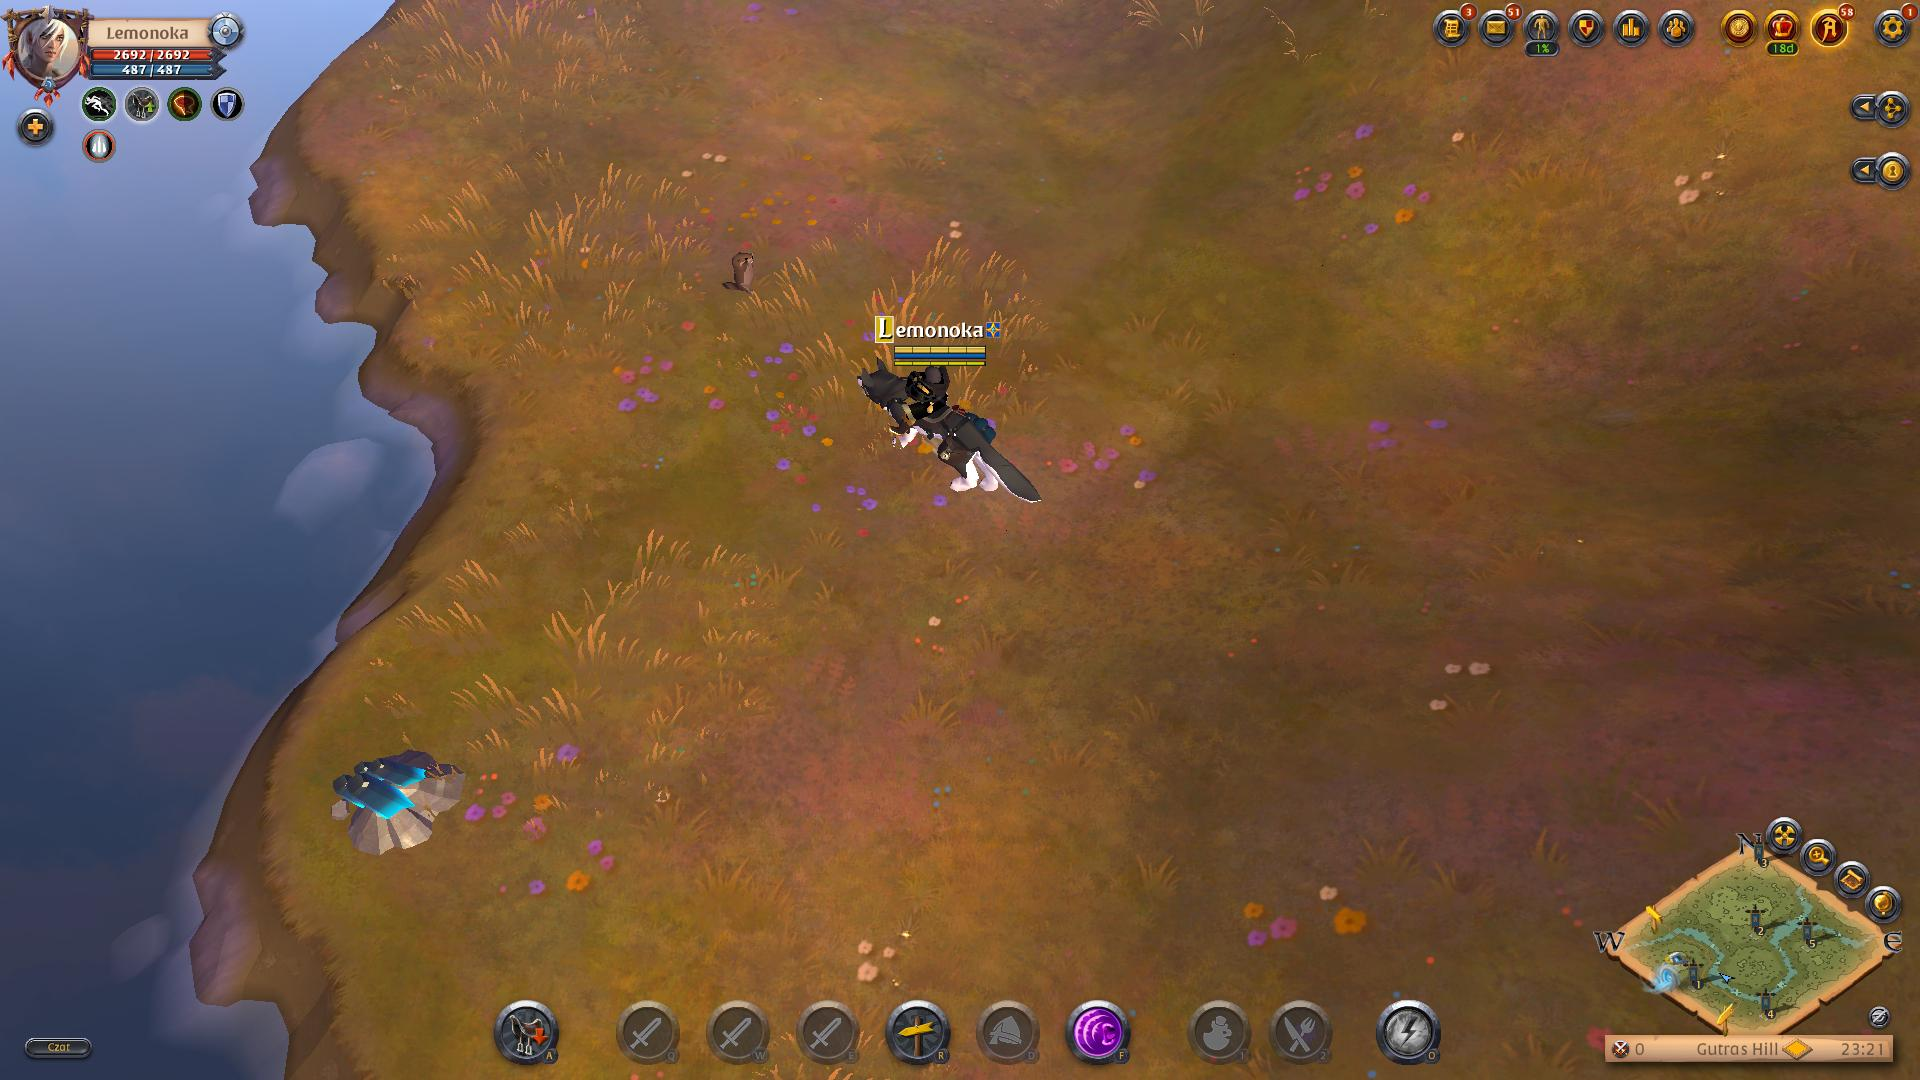ore tier 4: (328, 745, 473, 860)
